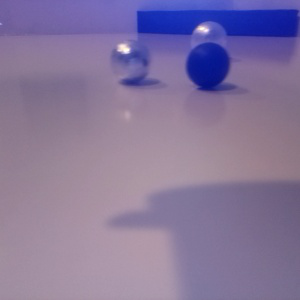alive_ball: (109, 38, 151, 83), (190, 21, 228, 62)
dead_ball: (185, 41, 230, 87)
